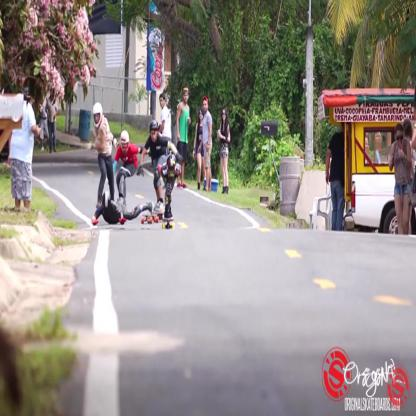Fall_Down: (91, 165, 156, 229)
